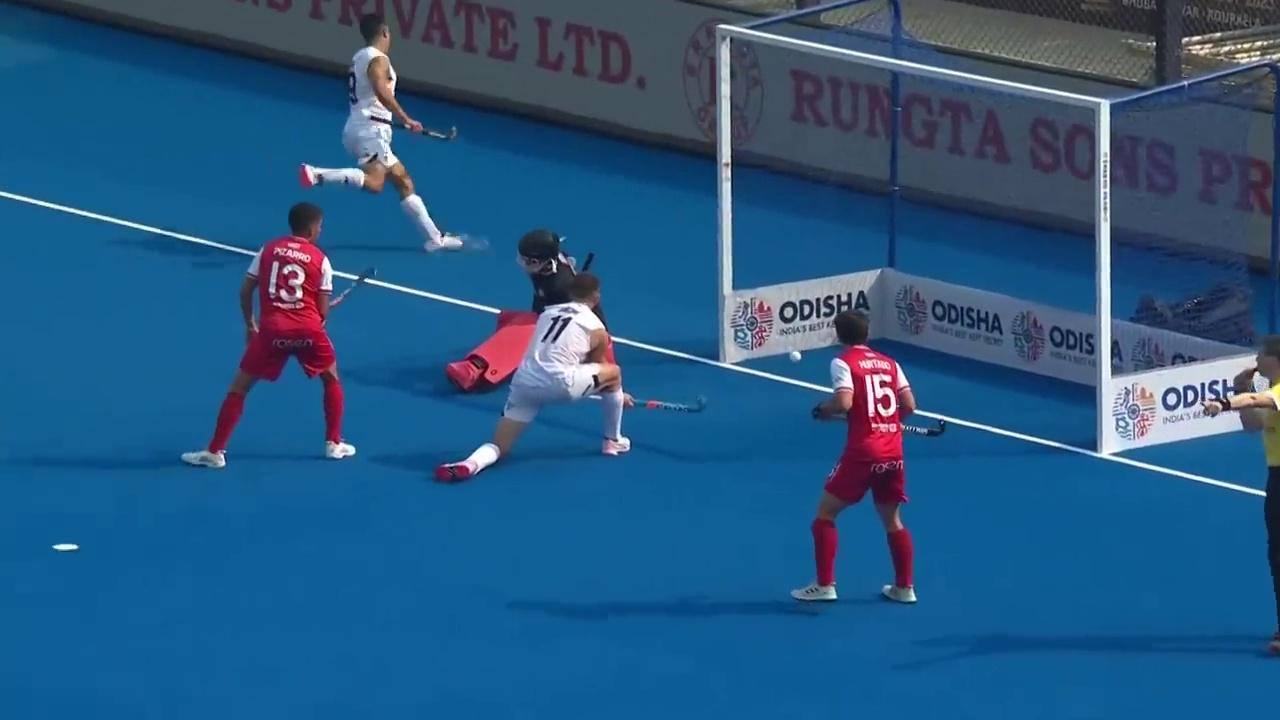ball: (777, 341, 813, 370)
